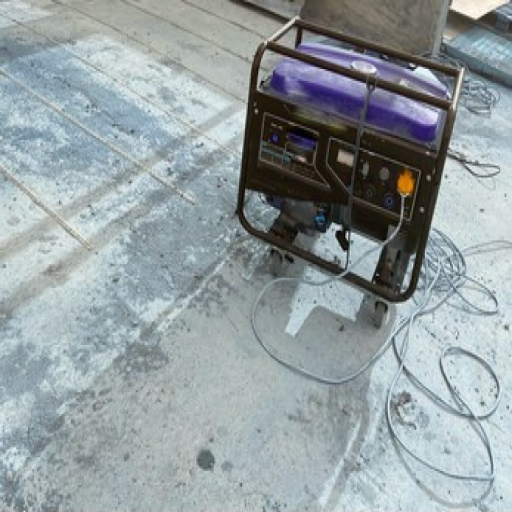portable_generator: (238, 15, 466, 303)
